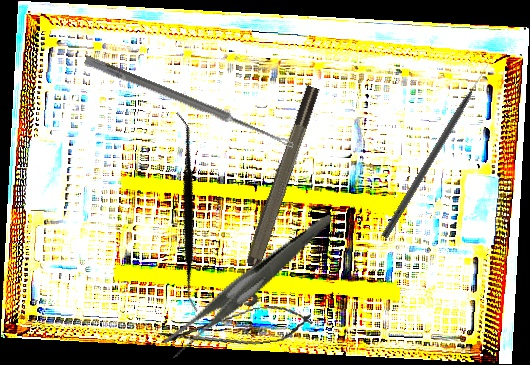Dressing Forceps: (142, 214, 358, 360)
Fixation Ring: (224, 83, 334, 309)
Hook Surgical: (380, 62, 493, 240)
Micro Scissor: (155, 300, 318, 358)
Spatula Surgical: (97, 111, 277, 313)
Surgical Spoon: (83, 55, 296, 150)
